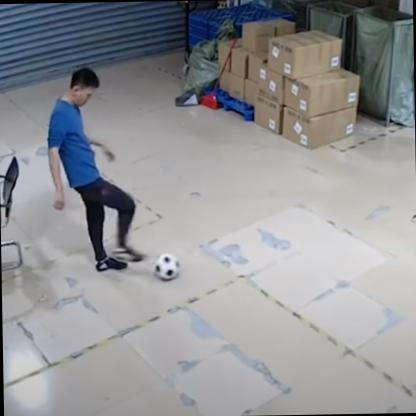Human Body: (40, 61, 148, 279)
